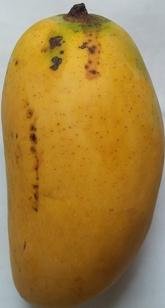Ripe: (0, 1, 165, 308)
